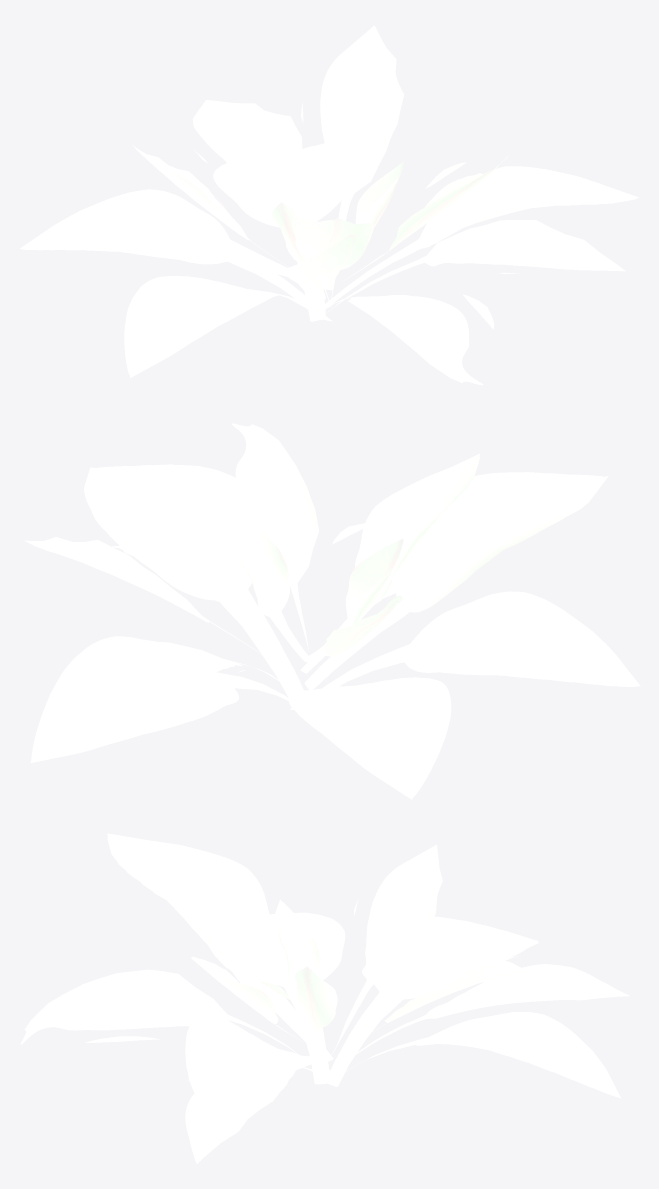
3 renders of one model, top to bottom at view 1: azimuth 30°, elevation 25°; view 2: azimuth 150°, elevation 25°; view 3: azimuth 270°, elevation 25°, orthographic. The views are drawn at different scales.
Parts seen in each view (by area): view 1: SM_UmbS_Sm_Plant_03_LOD0; view 2: SM_UmbS_Sm_Plant_03_LOD0; view 3: SM_UmbS_Sm_Plant_03_LOD0.
Part boxes in pixels (x1=…): SM_UmbS_Sm_Plant_03_LOD0: x1=19, y1=25, x2=638, y2=385; SM_UmbS_Sm_Plant_03_LOD0: x1=24, y1=423, x2=640, y2=799; SM_UmbS_Sm_Plant_03_LOD0: x1=21, y1=833, x2=629, y2=1163.
Bounding box in the file's own units: 0.7938 × 0.291 × 0.8443.
Materials: 1 (1 with a texture image).
